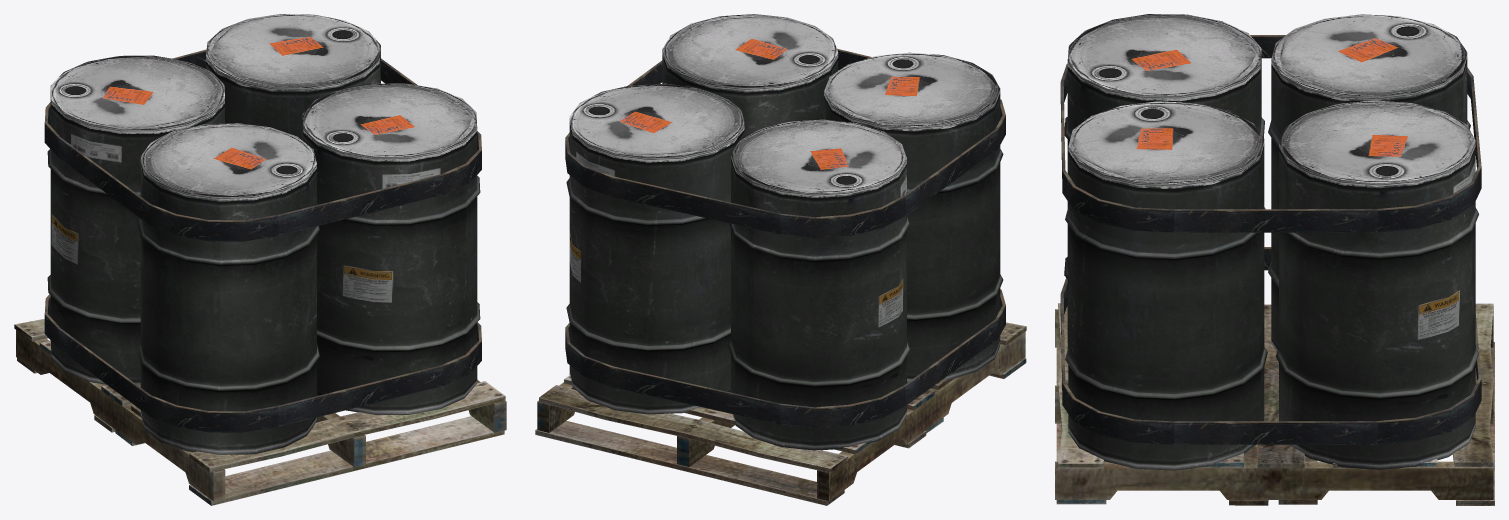
The model's file is pallet_barrels_water01_docks.glb.
3 renders of one model, left to right at view 1: azimuth 30°, elevation 25°; view 2: azimuth 150°, elevation 25°; view 3: azimuth 270°, elevation 25°, orthographic. The views are drawn at different scales.
Visible parts, largest first — view 1: pallet_barrels_water01_docks; view 2: pallet_barrels_water01_docks; view 3: pallet_barrels_water01_docks.
Boxes of the visible parts, x1,y1,x2,y2 form: pallet_barrels_water01_docks: [14, 14, 506, 505]; pallet_barrels_water01_docks: [535, 14, 1026, 505]; pallet_barrels_water01_docks: [1055, 14, 1494, 505].
Bounding box in the file's own units: 1.13 × 0.9764 × 1.19.
Materials: 2 (2 with a texture image).
